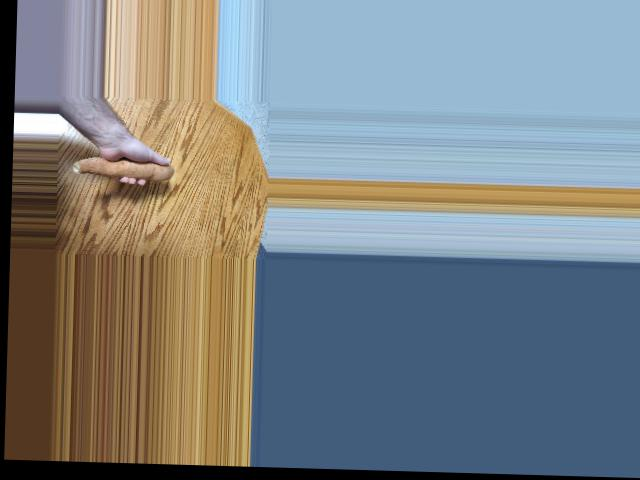sweet_potato: (71, 149, 181, 186)
